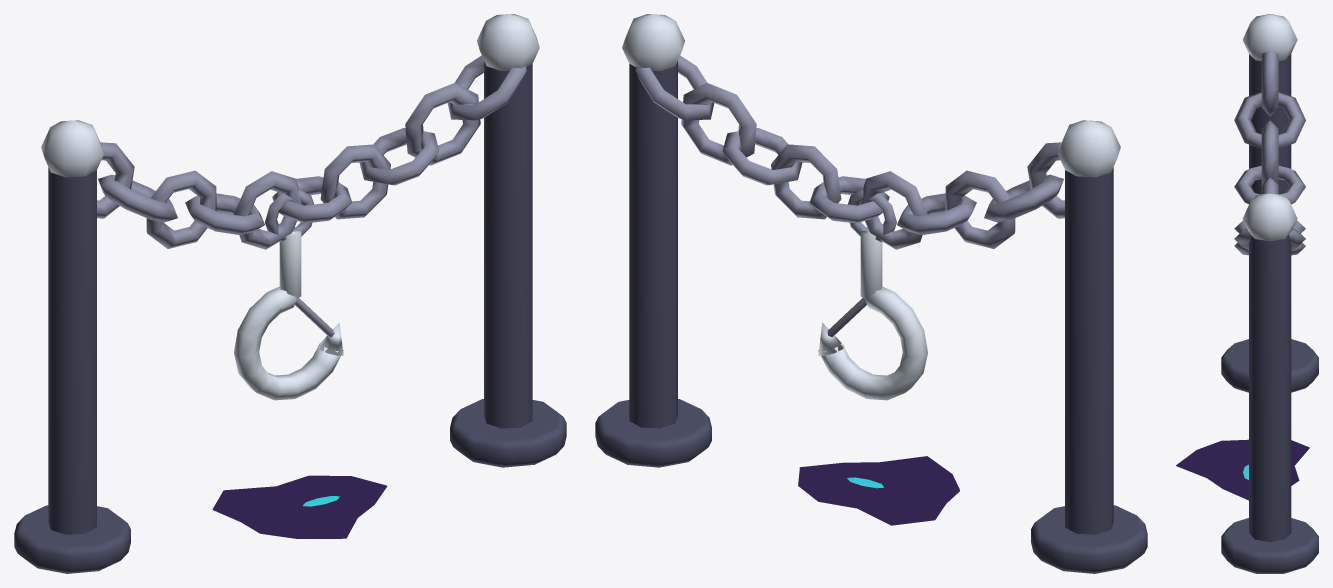
Rendered from tow_chain.glb.
The picture shows the model from 3 angles, left to right: view 1: azimuth 30°, elevation 25°; view 2: azimuth 150°, elevation 25°; view 3: azimuth 270°, elevation 25°; orthographic projection. The views are drawn at different scales.
Parts seen in each view (by area): view 1: Chain; view 2: Chain; view 3: Chain.
Boxes of the visible parts, x1,y1,x2,y2 form: Chain: [14, 14, 566, 573]; Chain: [595, 14, 1147, 573]; Chain: [1176, 14, 1318, 573].
Size of the model in its own units: 1.23 by 0.945 by 0.3376.
